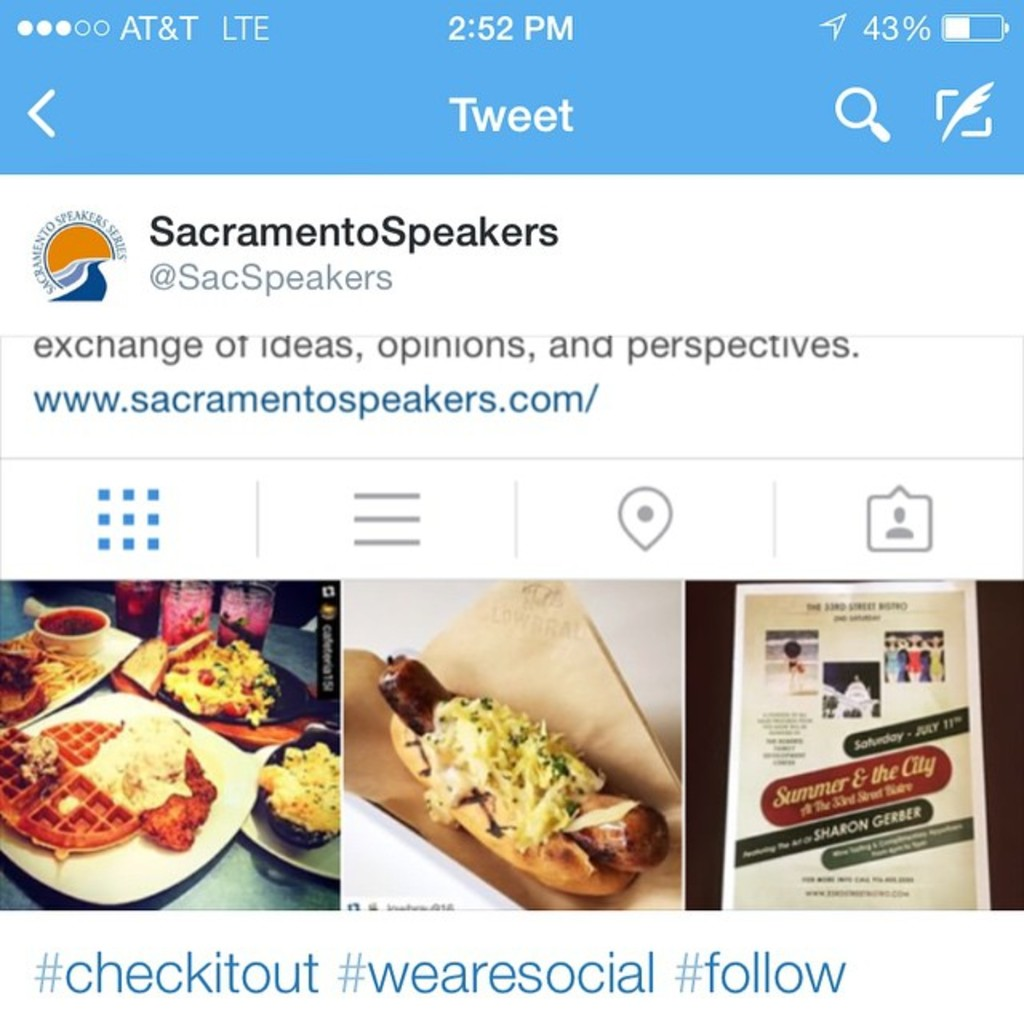hot_dog: (379, 643, 685, 906)
